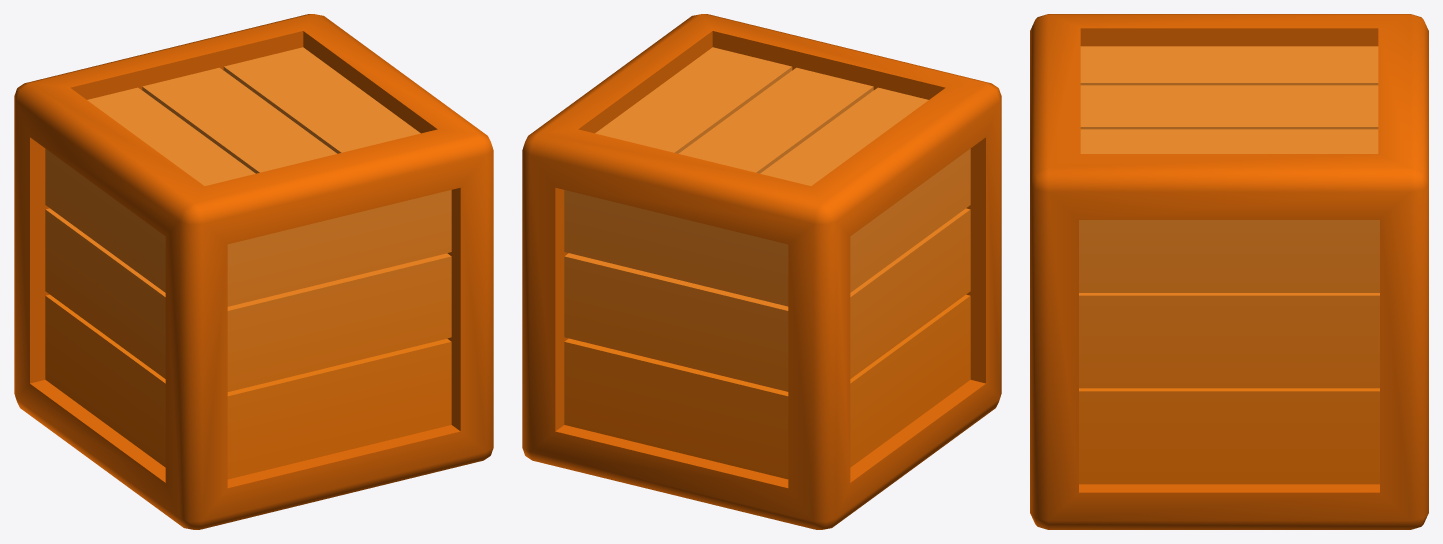
Rendered from Props_Crate_01.fbx.
3 views of the same model, side by side, from view 1: azimuth 30°, elevation 25°; view 2: azimuth 150°, elevation 25°; view 3: azimuth 270°, elevation 25° (orthographic). The views are drawn at different scales.
Parts seen in each view (by area): view 1: Props_Crate_01; view 2: Props_Crate_01; view 3: Props_Crate_01.
Boxes of the visible parts, bbox=[...] form: Props_Crate_01: bbox=[14, 14, 493, 529]; Props_Crate_01: bbox=[522, 14, 1001, 529]; Props_Crate_01: bbox=[1030, 14, 1428, 529].
Bounding box in the file's own units: 119 × 119 × 119.
